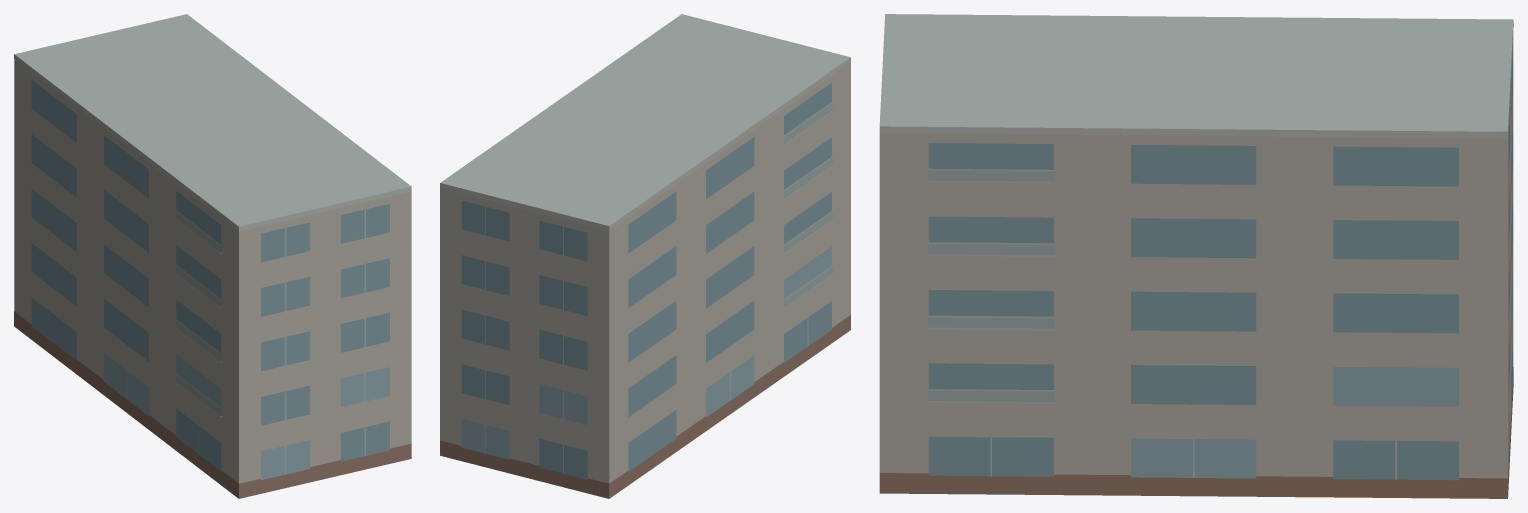
The model's file is survey-upis-32775935.glb.
3 views of the same model, side by side, from view 1: azimuth 30°, elevation 25°; view 2: azimuth 150°, elevation 25°; view 3: azimuth 270°, elevation 25° (orthographic). The views are drawn at different scales.
Visible parts, largest first — view 1: survey-upis-32775935.tmp; view 2: survey-upis-32775935.tmp; view 3: survey-upis-32775935.tmp.
Boxes of the visible parts, x1=… form: survey-upis-32775935.tmp: x1=14, y1=14, x2=411, y2=498; survey-upis-32775935.tmp: x1=440, y1=14, x2=850, y2=498; survey-upis-32775935.tmp: x1=879, y1=14, x2=1513, y2=498.
Bounding box in the file's own units: 9.23 × 13.4 × 20.98.
